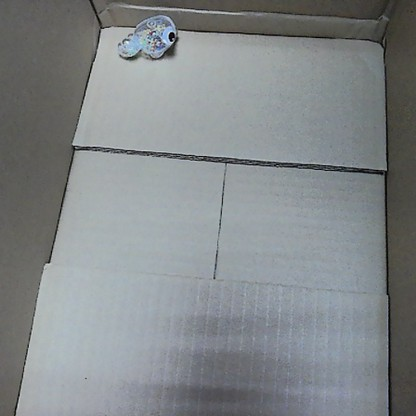whitefish: (113, 11, 179, 60)
